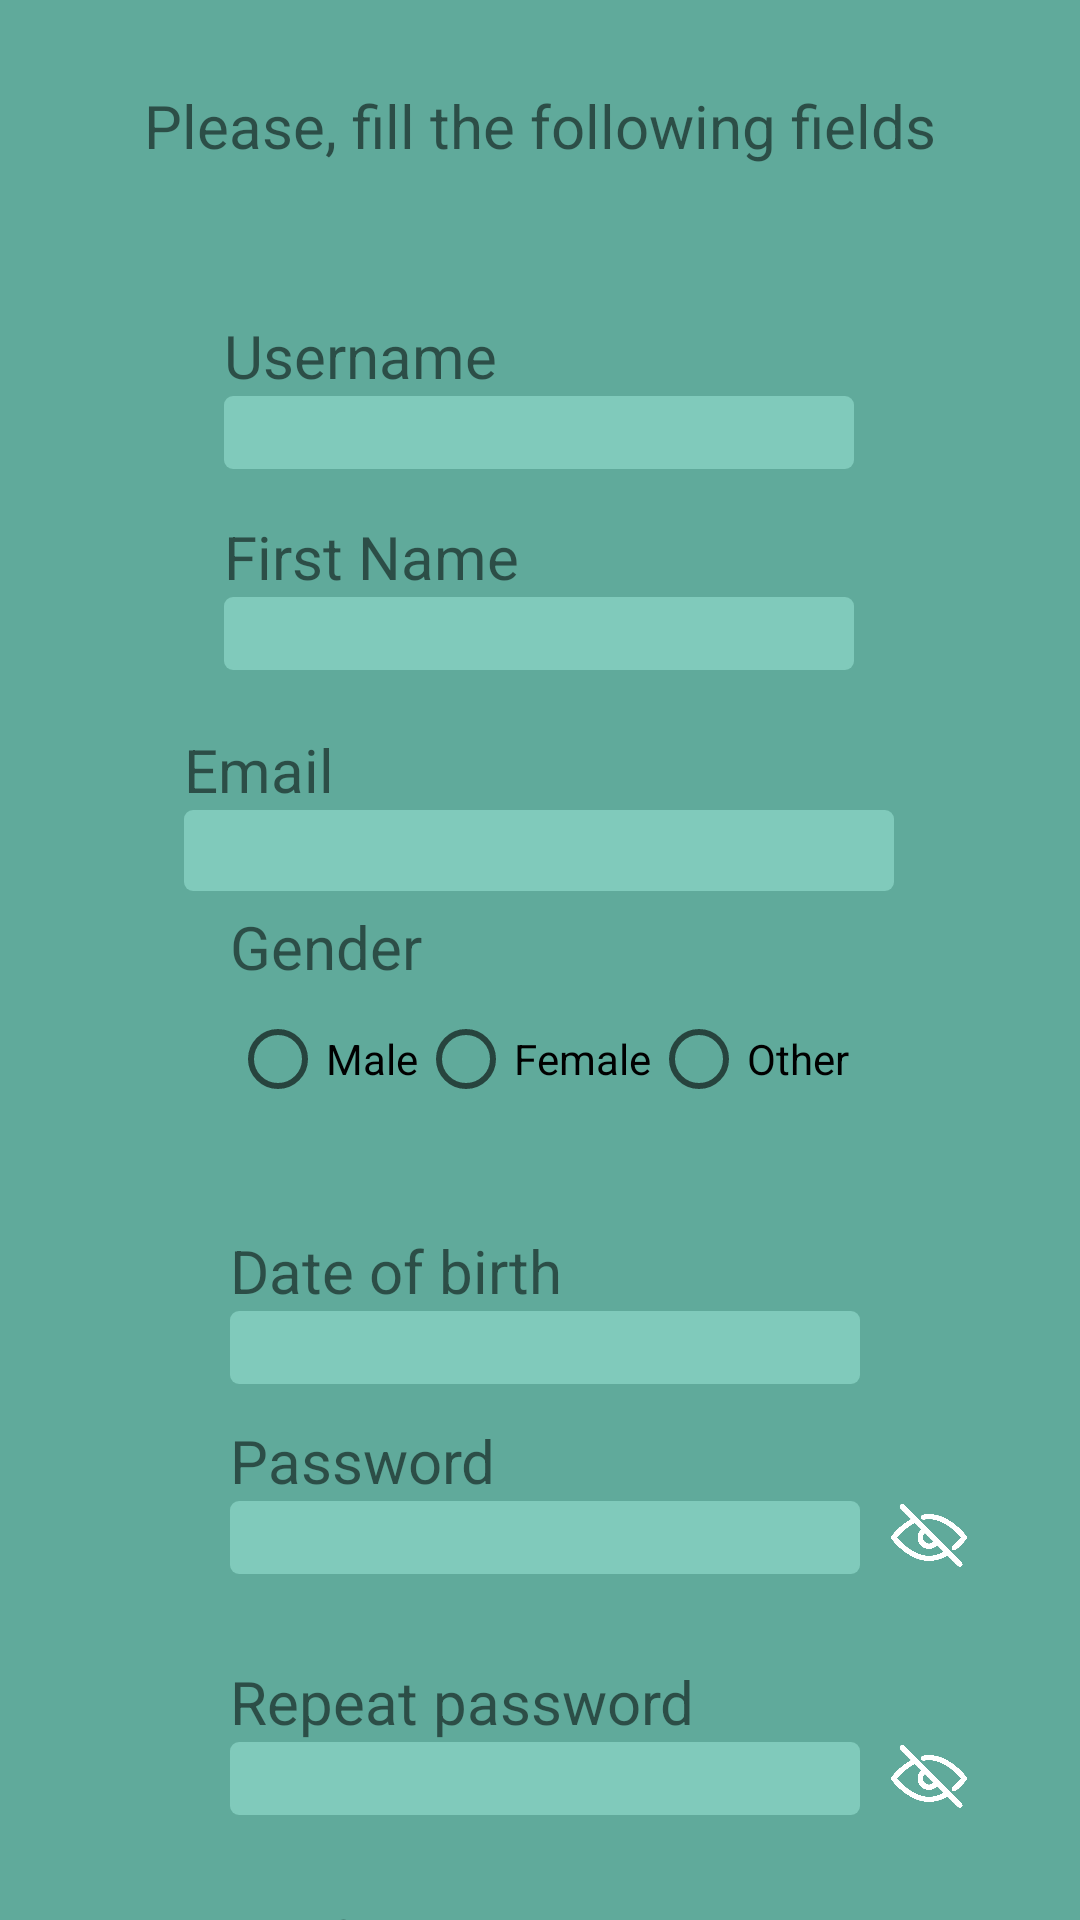

Locate icon controls on the screen. Image size 1080x1920, boxes as (x1, y1, x2, y2).
ojo: (891, 1504, 967, 1567), (891, 1745, 967, 1808)
